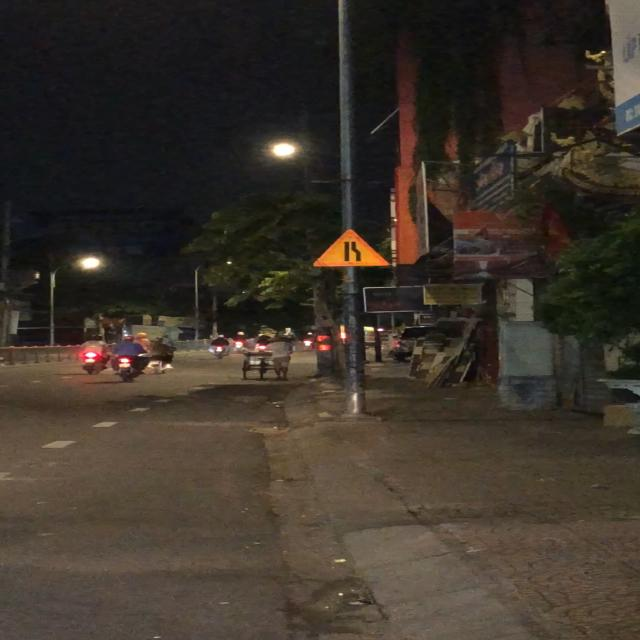Bien bao duong bi thu hep: (304, 225, 393, 268)
